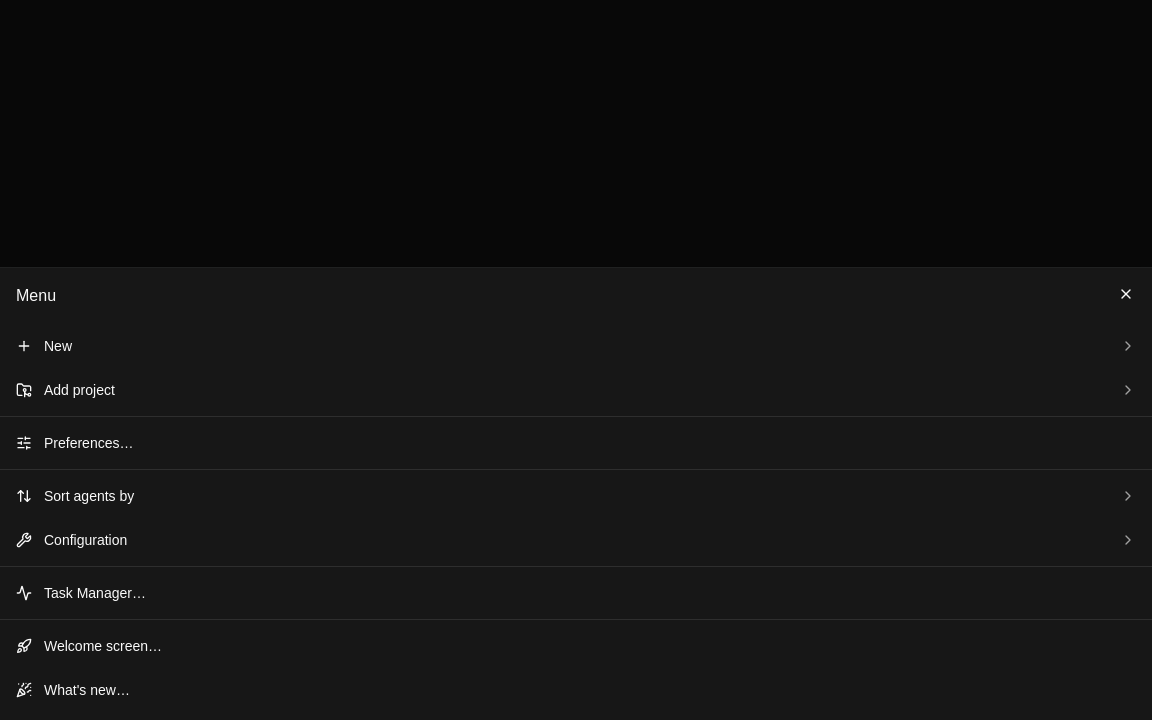
AppMenuSheet › drills down into Configuration and shows a back arrow
Click the menu item "Configuration" at (86, 540), box [0, 518, 1151, 562]
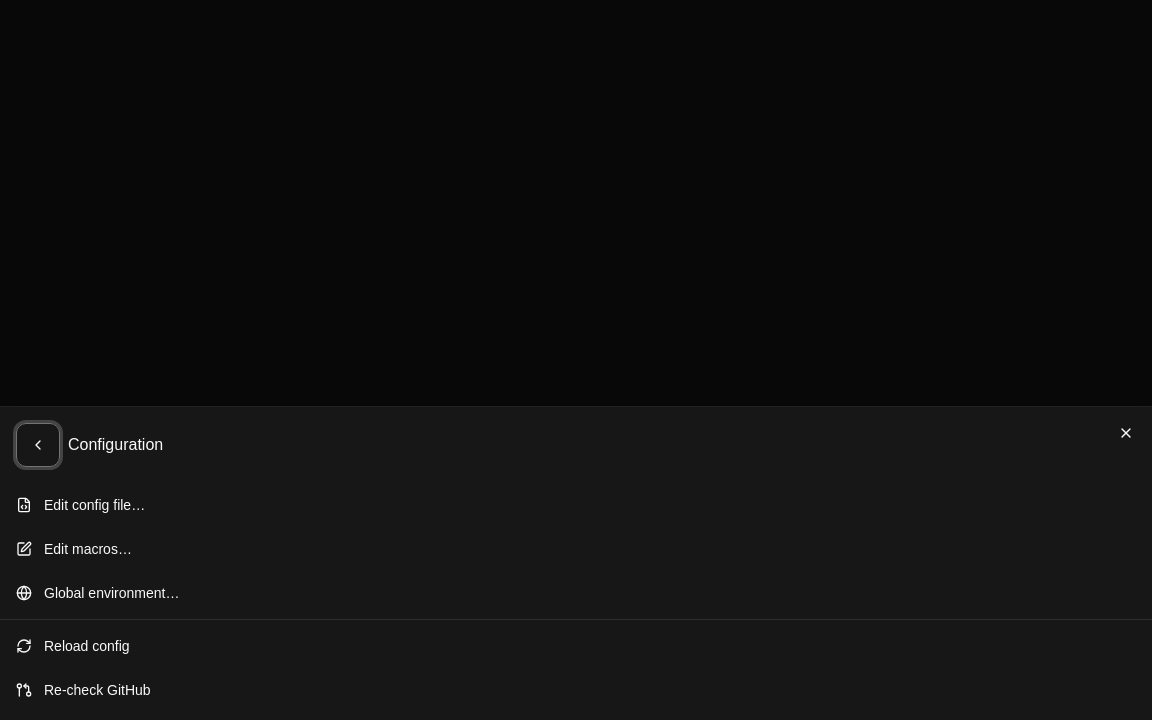
Expected: the button named "Back" is shown, [16, 423, 60, 467]
Expected: the text "Edit config file…" is shown, [44, 497, 145, 513]
Expected: the menu item "Preferences…" is gone
